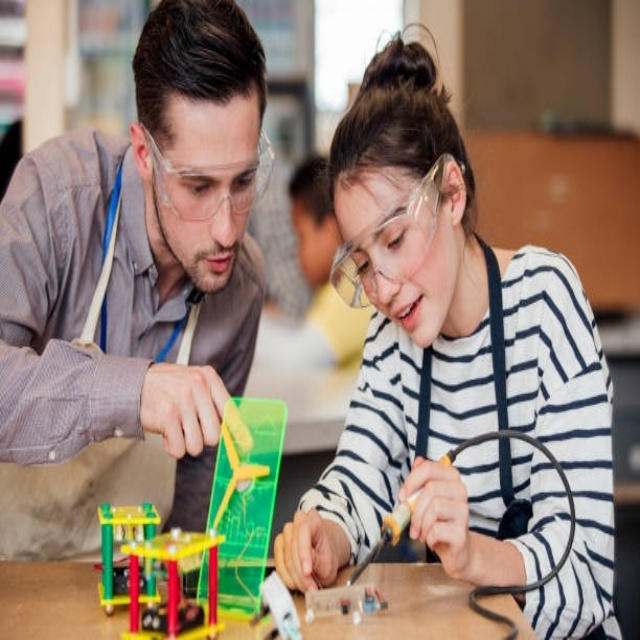Gafas: (331, 151, 461, 306), (143, 123, 276, 221)
Sin_guantes: (396, 454, 474, 579), (141, 360, 234, 460), (272, 517, 322, 594)
Sin_mascara: (397, 287, 431, 345), (190, 245, 236, 287)
